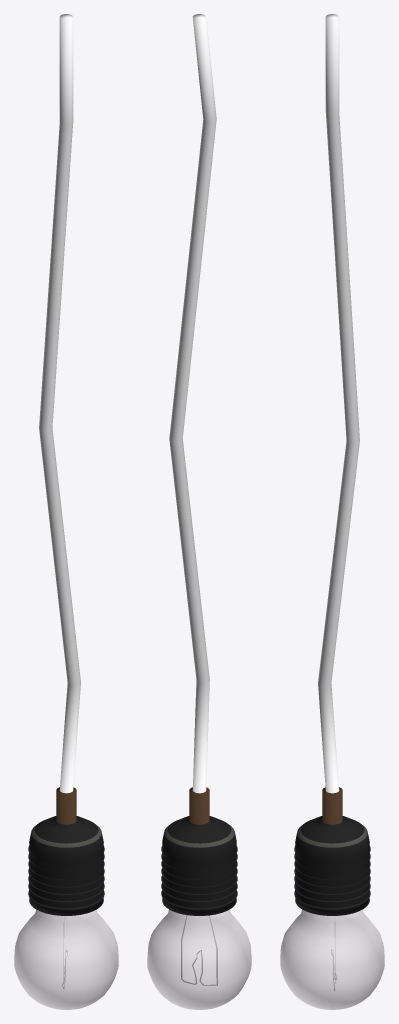
The model's file is lempute.glb.
The picture shows the model from 3 angles, left to right: view 1: azimuth 90°, elevation 25°; view 2: azimuth 150°, elevation 25°; view 3: azimuth 270°, elevation 25°; orthographic projection.
Parts seen in each view (by area): view 1: Lempute; view 2: Lempute; view 3: Lempute.
Part boxes in pixels (<box>): Lempute: <box>14,14,118,1009</box>; Lempute: <box>147,14,251,1009</box>; Lempute: <box>280,14,384,1009</box>.
Size of the model in its own units: 0.0766 by 0.7991 by 0.0766.
